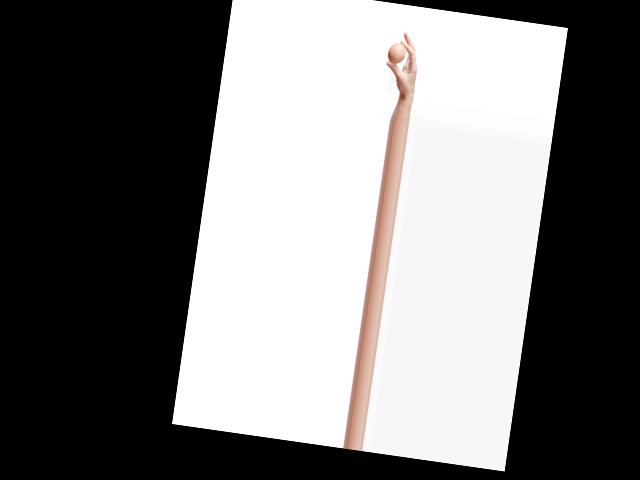egg: (386, 41, 406, 65)
